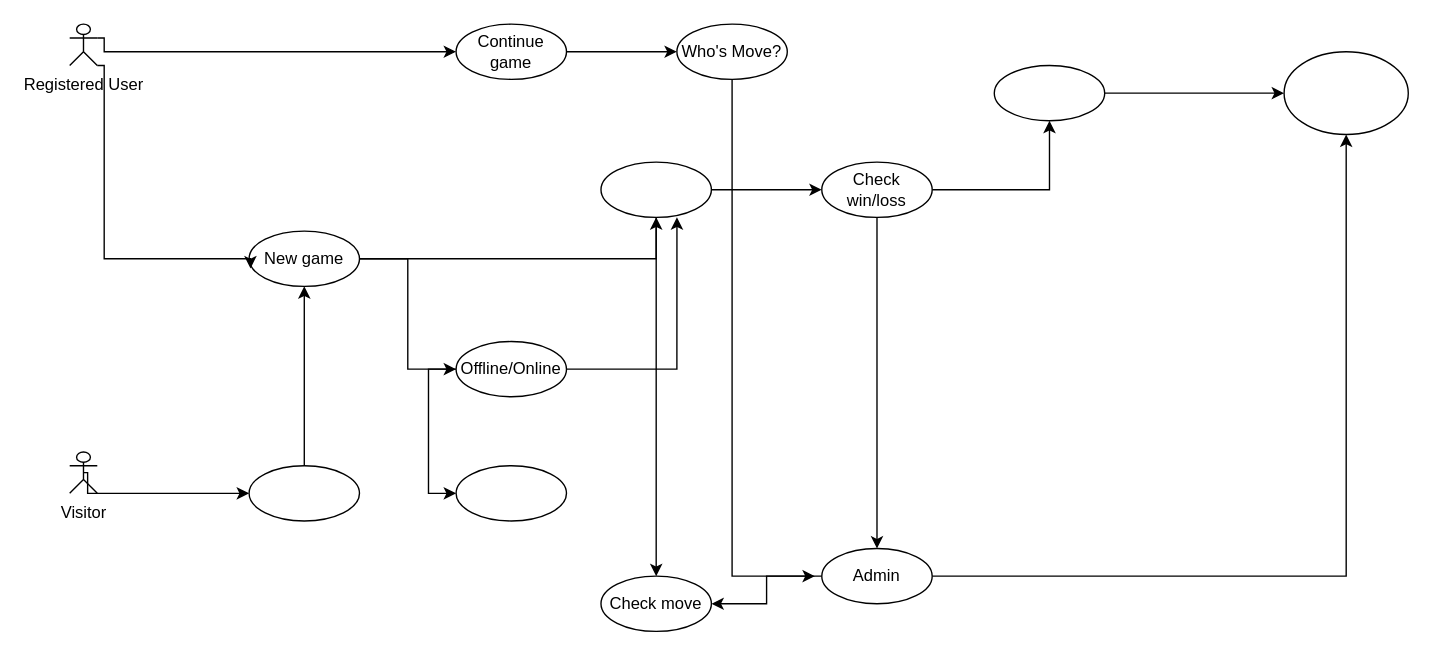
Some shapes in this 1432 by 656 pixel diagram are drawn without their labels. Each missing label, with the box of its shape:
End game: (993, 64, 1105, 121)
Input Number: (600, 161, 711, 217)
Registration: (248, 464, 359, 521)
Save Result and Update Rank: (1283, 50, 1408, 135)
Select Difficulty: (455, 464, 566, 521)
